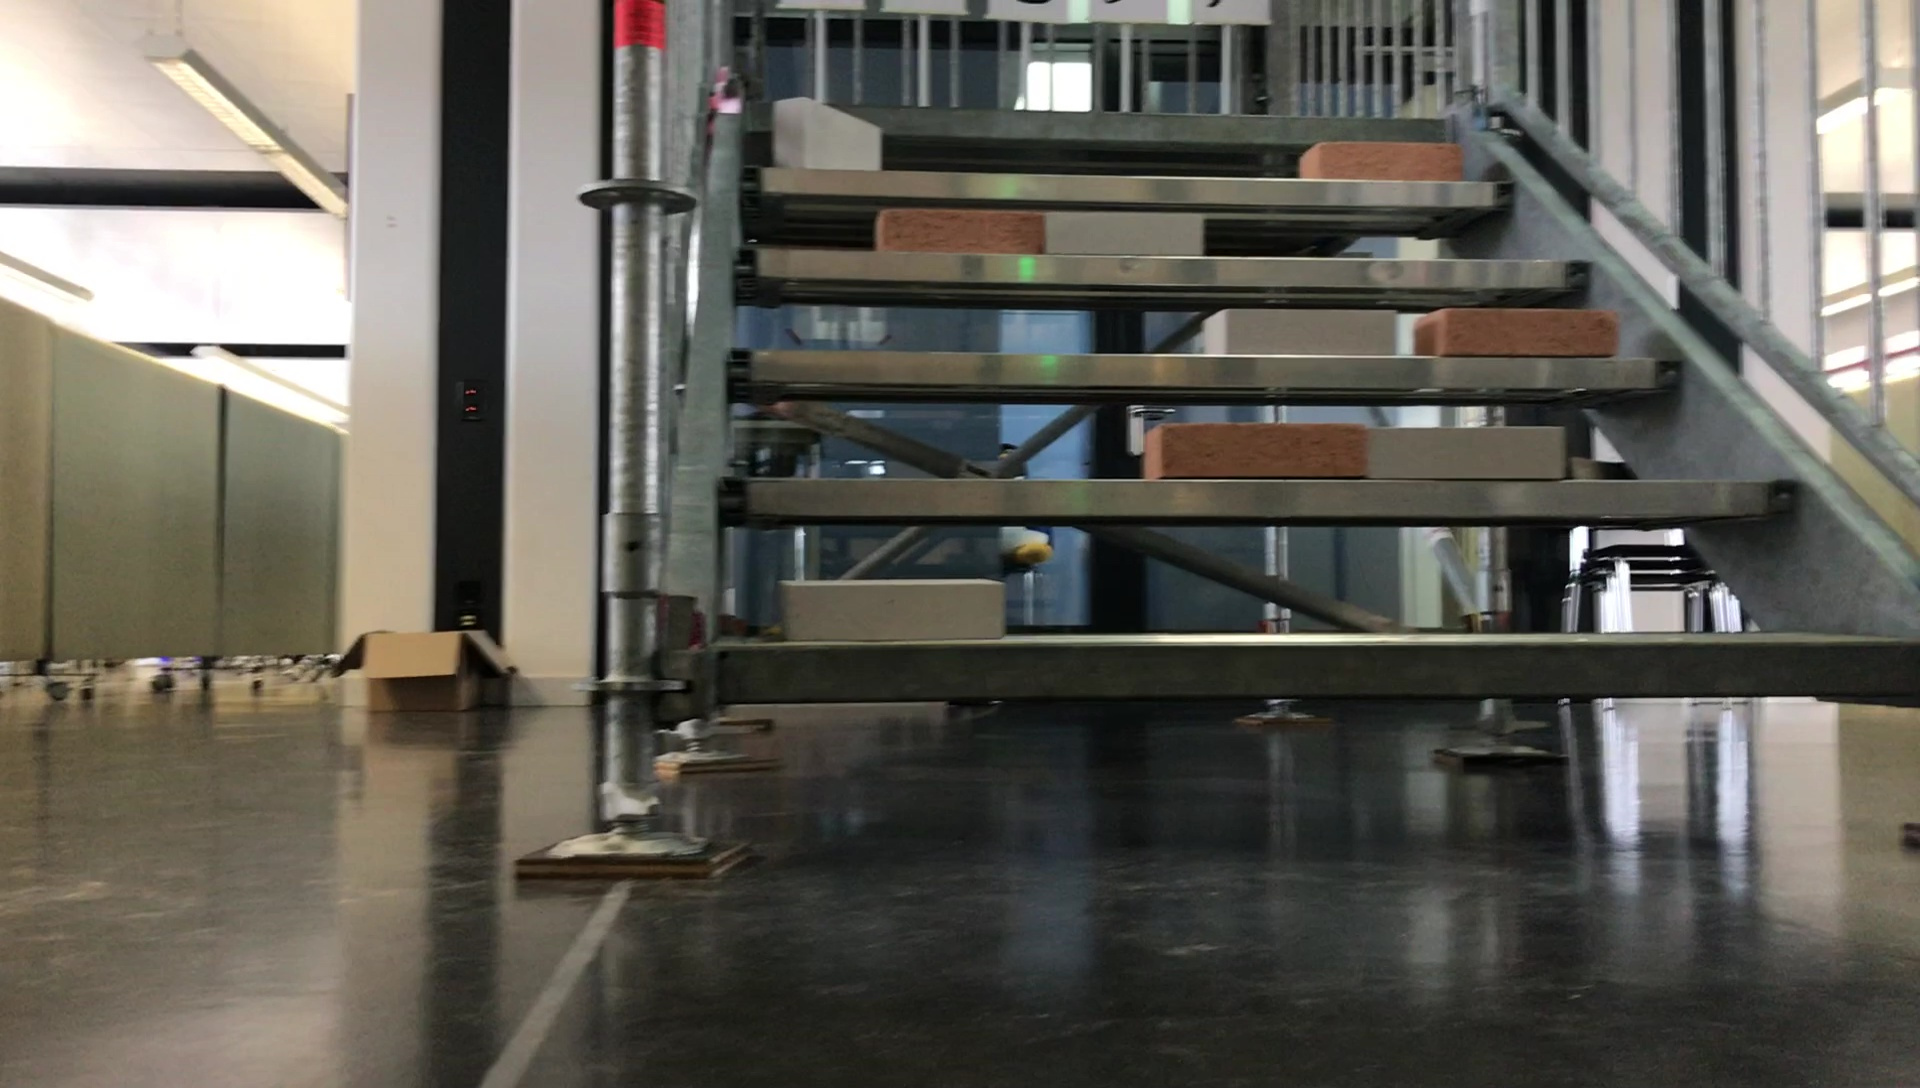brick: (774, 574, 1021, 632), (1360, 421, 1568, 481), (1135, 427, 1353, 481), (1200, 302, 1411, 357), (1419, 302, 1629, 357), (1038, 204, 1207, 255), (771, 98, 874, 175), (866, 208, 1021, 253), (1296, 138, 1476, 177)
edge: (702, 645, 1920, 702), (727, 473, 1811, 524), (738, 244, 1588, 294), (749, 167, 1499, 212), (741, 102, 1455, 140), (721, 346, 1672, 373)
stairs: (597, 0, 1920, 902)
steps: (654, 113, 1920, 719)
